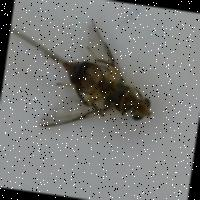Oriental-fruit-fly: (23, 12, 169, 162)
